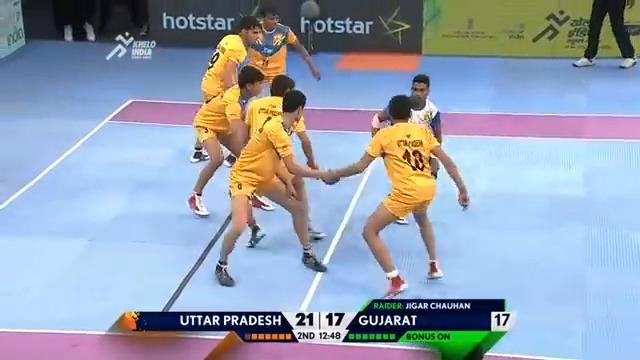Player: (319, 93, 469, 298), (214, 87, 339, 286), (186, 15, 273, 217), (246, 6, 321, 97)
Raider: (370, 73, 443, 225)
referee: (571, 0, 637, 69), (51, 0, 97, 42)
